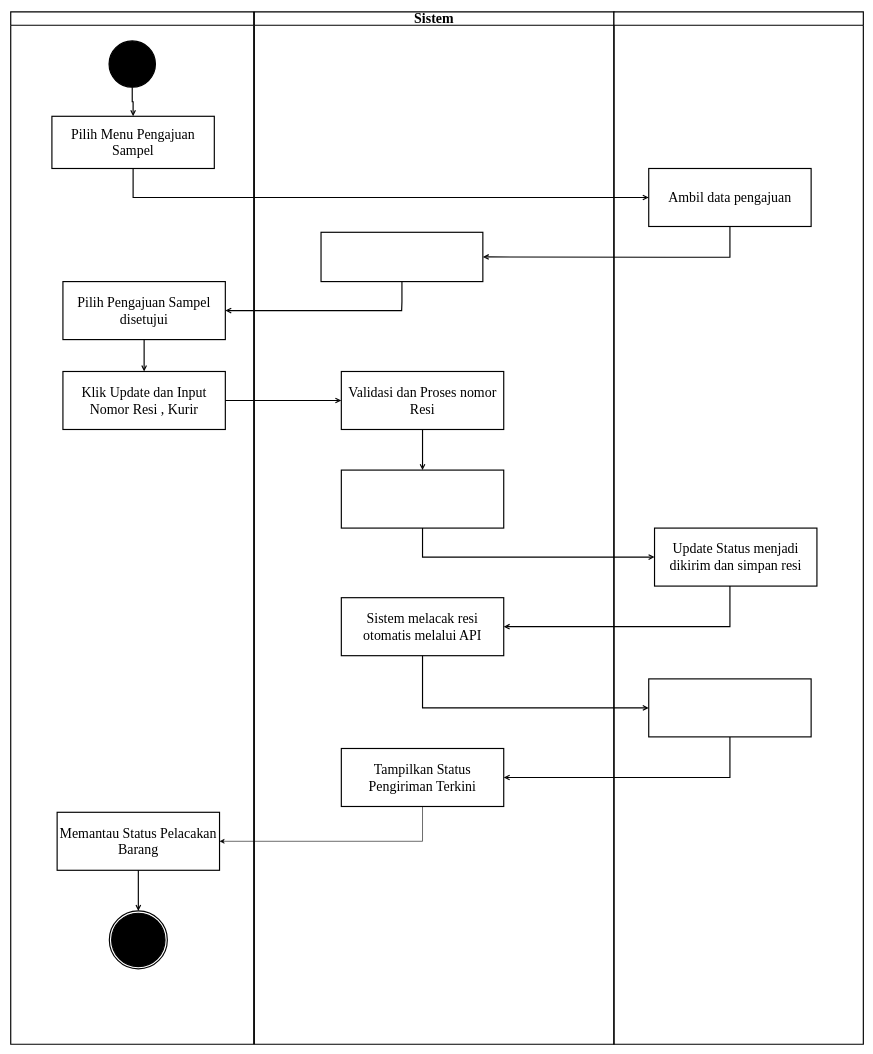
Image size: 873x1054. Some labels were removed from this diagram. The box of each missing label's shape, as (x1, y1, x2, y2) in pixels:
Administrator: (10, 11, 254, 1045)
Basis Data: (613, 11, 864, 1045)
Kurangii stok inventaris secara otomatis: (340, 469, 504, 528)
Simpan Log Status Pelacakan: (648, 678, 811, 737)
Tampilkan daftar pengajuan siap kirim: (320, 231, 483, 282)
